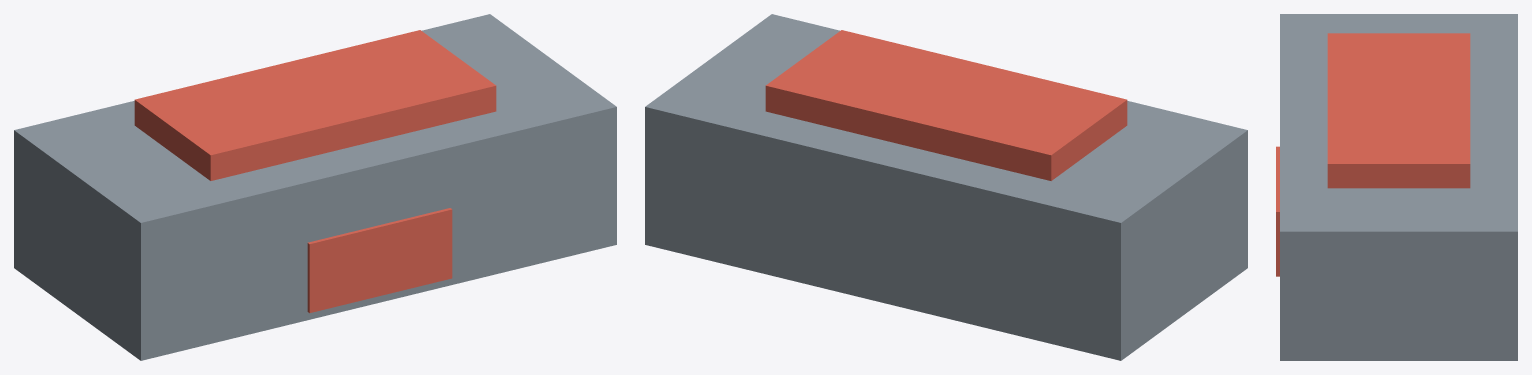
File: SM_Soviet_SU_GromadaAirship_Blockout.fbx
The picture shows the model from 3 angles, left to right: view 1: azimuth 30°, elevation 25°; view 2: azimuth 150°, elevation 25°; view 3: azimuth 270°, elevation 25°; orthographic projection. The views are drawn at different scales.
Parts seen in each view (by area): view 1: MainBuilding, RoofStructure, EntranceGate; view 2: MainBuilding, RoofStructure; view 3: MainBuilding, RoofStructure, EntranceGate.
Boxes of the visible parts, left/top/right/bottom form: MainBuilding: left=14, top=14, right=616, bottom=360; RoofStructure: left=134, top=30, right=496, bottom=180; EntranceGate: left=307, top=208, right=452, bottom=313; MainBuilding: left=645, top=14, right=1247, bottom=360; RoofStructure: left=765, top=30, right=1127, bottom=180; MainBuilding: left=1280, top=14, right=1517, bottom=360; RoofStructure: left=1327, top=33, right=1470, bottom=188; EntranceGate: left=1276, top=146, right=1279, bottom=276.
Size of the model in its own units: 1300 by 428 by 610.
